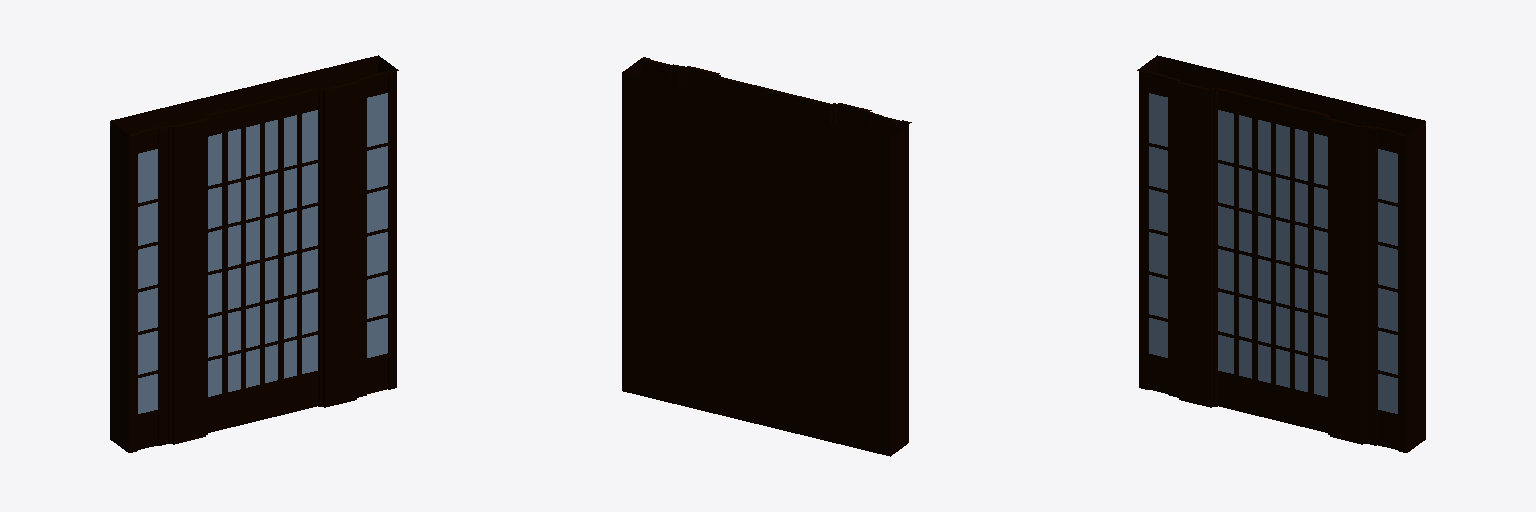
Rendered from MainDoorBottom.obj.
3 renders of one model, left to right at view 1: azimuth 30°, elevation 25°; view 2: azimuth 150°, elevation 25°; view 3: azimuth 330°, elevation 25°, orthographic.
Parts seen in each view (by area): view 1: Cube.024; view 2: Cube.024; view 3: Cube.024.
Boxes of the visible parts, x1,y1,x2,y2 form: Cube.024: [110, 55, 398, 452]; Cube.024: [622, 57, 911, 456]; Cube.024: [1137, 55, 1425, 452].
Bounding box in the file's own units: 2.76 × 3.13 × 0.418.